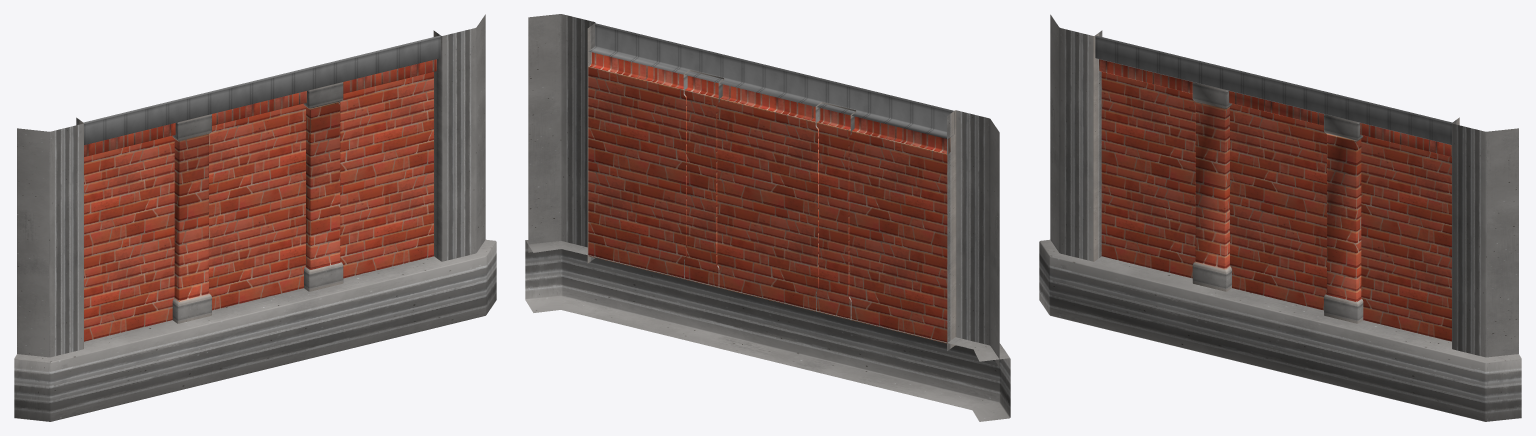
The model's file is SM_Facade_01.fbx.
The picture shows the model from 3 angles, left to right: view 1: azimuth 30°, elevation 25°; view 2: azimuth 150°, elevation 25°; view 3: azimuth 330°, elevation 25°; orthographic projection.
Visible parts, largest first — view 1: SM_Facade_01; view 2: SM_Facade_01; view 3: SM_Facade_01.
Boxes of the visible parts, left/top/right/bottom form: SM_Facade_01: left=14, top=14, right=496, bottom=421; SM_Facade_01: left=525, top=14, right=1010, bottom=421; SM_Facade_01: left=1039, top=14, right=1521, bottom=421.
Bounding box in the file's own units: 777 × 68.36 × 439.
